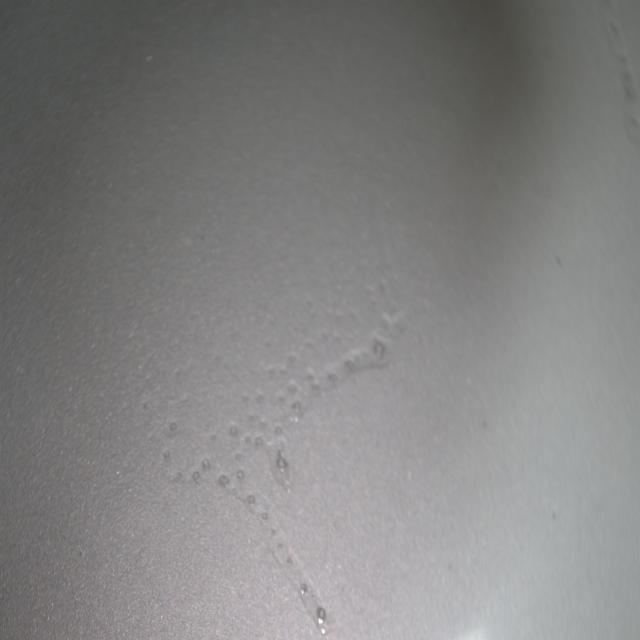dirt: (555, 250, 564, 274), (551, 508, 559, 522), (480, 418, 489, 430)
runs: (161, 286, 406, 633), (600, 18, 640, 147)
